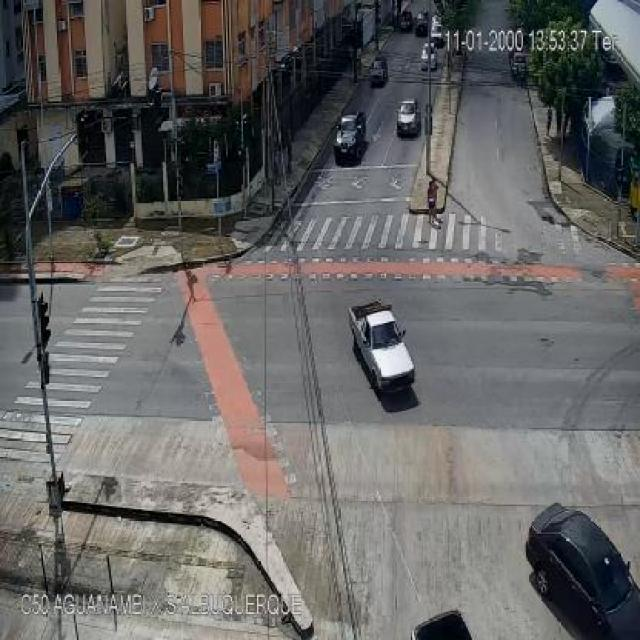Car: (525, 506, 638, 637), (333, 111, 368, 164), (396, 100, 420, 136), (369, 56, 388, 85), (510, 52, 528, 82), (420, 43, 438, 71), (429, 16, 444, 47), (414, 12, 430, 38), (399, 10, 413, 33)
Truck: (348, 300, 415, 394)
